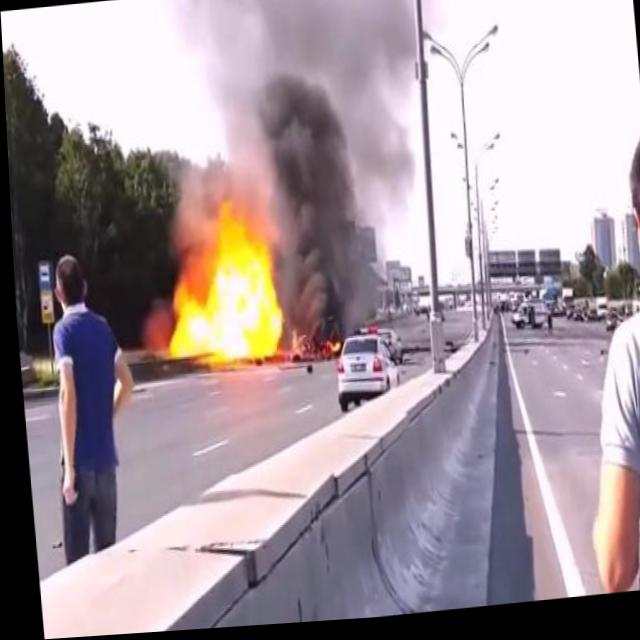fire: (150, 201, 285, 372), (303, 335, 337, 365)
